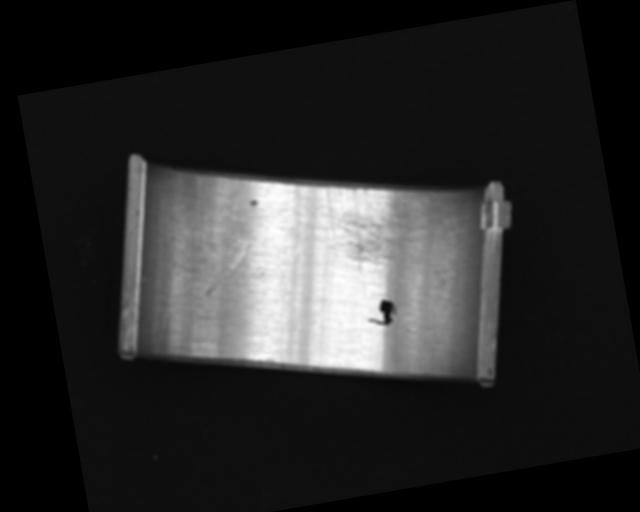blot: (364, 297, 398, 328)
bruise: (246, 198, 258, 209)
nick: (259, 243, 322, 366), (140, 262, 200, 357), (198, 241, 257, 296), (227, 192, 249, 248)
scratch: (313, 168, 447, 276)
